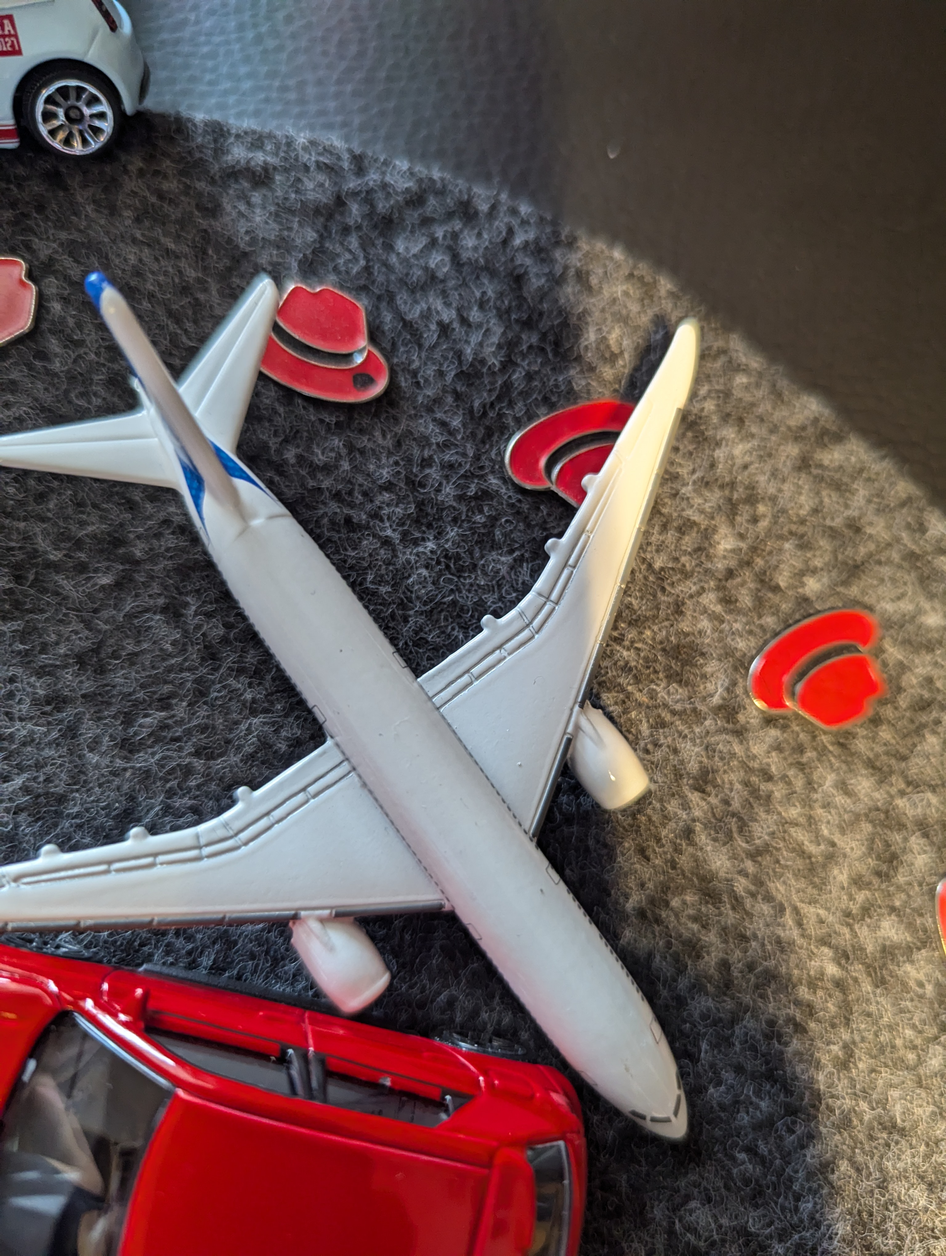Airplane: (0, 231, 740, 1152)
Car: (0, 944, 595, 1256)
Red-Hat: (231, 254, 394, 432), (472, 372, 660, 525), (729, 584, 899, 747)
Scratch: (333, 360, 387, 403)
